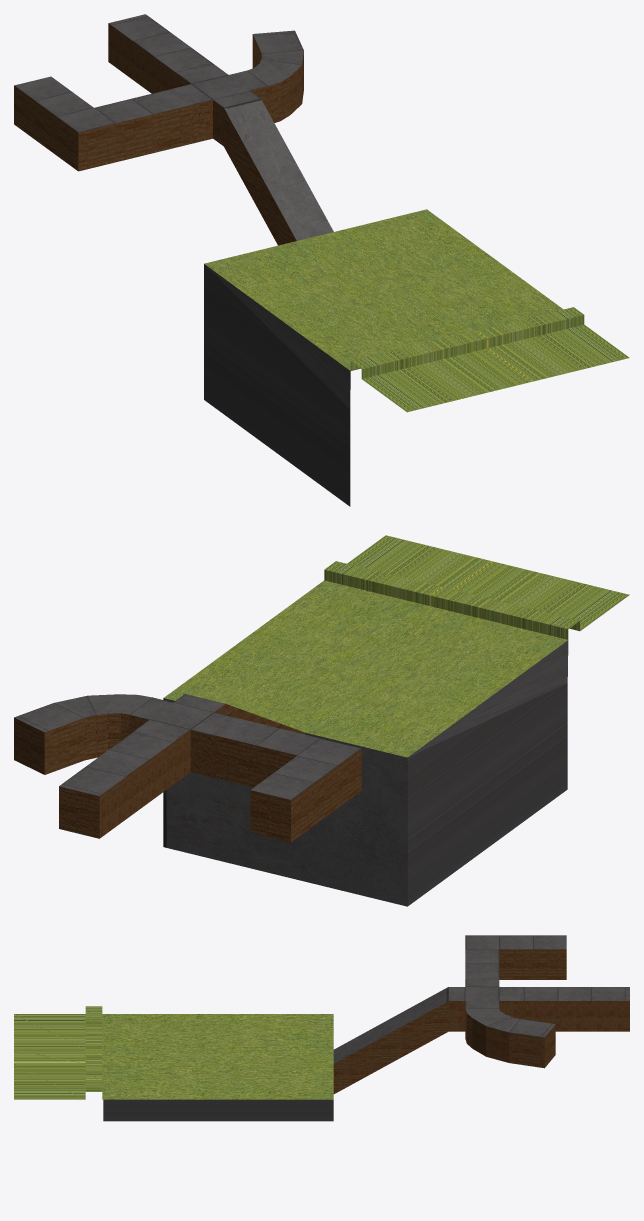
Rendered from map.obj.
The picture shows the model from 3 angles, top to bottom: view 1: azimuth 30°, elevation 25°; view 2: azimuth 150°, elevation 25°; view 3: azimuth 270°, elevation 25°; orthographic projection. The views are drawn at different scales.
Visible parts, largest first — view 1: Cube.001; view 2: Cube.001; view 3: Cube.001.
Part boxes in pixels (x1,y1,x2,y2): Cube.001: (14, 14, 629, 506); Cube.001: (14, 535, 629, 906); Cube.001: (14, 935, 629, 1121).
Bounding box in the file's own units: 57.48 × 44.45 × 146.
Materials: 3 (3 with a texture image).
